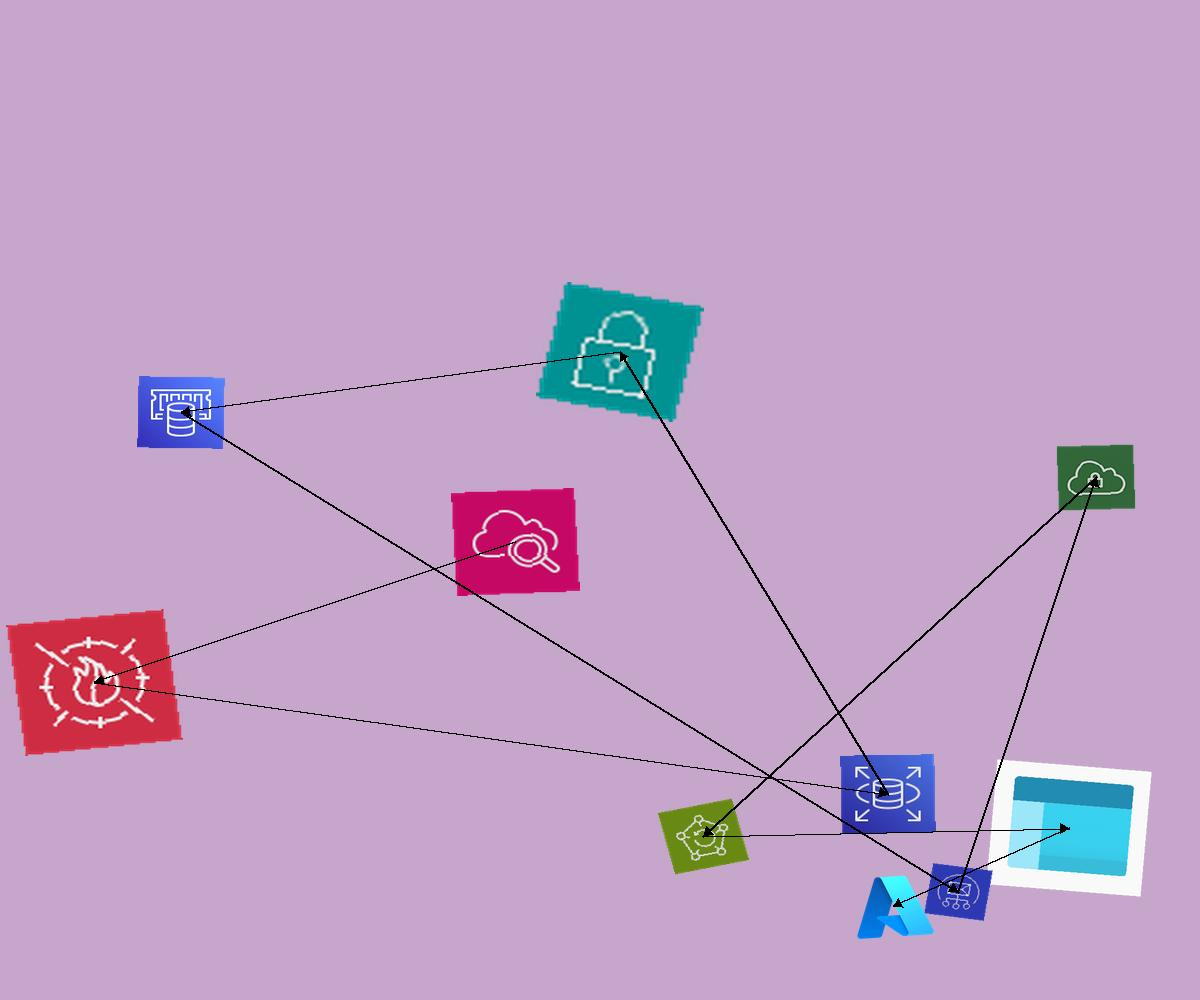AWS-Backup: (657, 798, 750, 875)
AWS-CloudWatch: (451, 488, 580, 596)
AWS-ElastiCache: (137, 376, 225, 449)
AWS-Private-subnet: (536, 282, 704, 422)
AWS-Private_vpc: (1056, 444, 1136, 511)
AWS-RDS: (840, 754, 936, 834)
AWS-Simple-Email-Service: (924, 863, 993, 921)
AWS-WAF: (6, 609, 183, 756)
Azure_management-portal: (986, 759, 1152, 897)
Azure_services: (848, 869, 938, 944)
